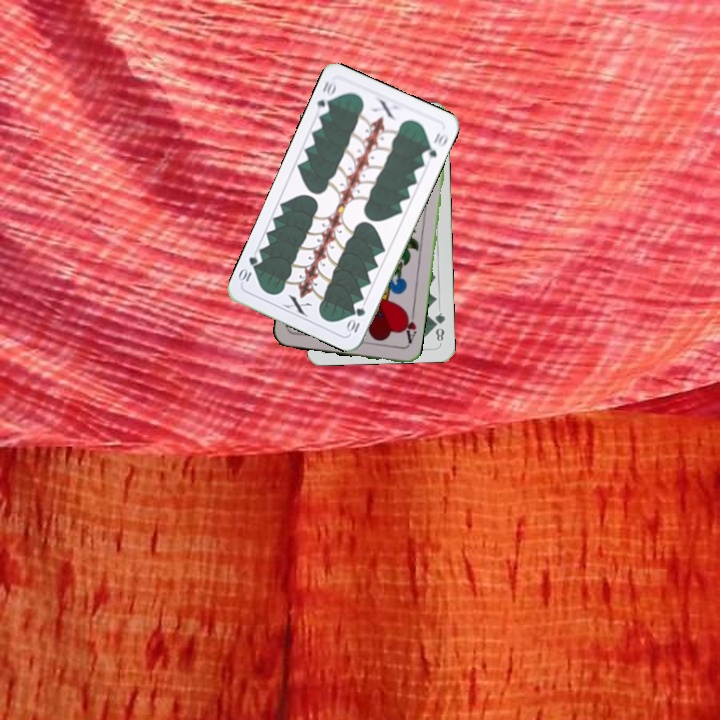G10: (312, 77, 339, 117), (343, 303, 368, 336)
G8: (430, 308, 448, 344)
HA: (399, 307, 419, 348)
